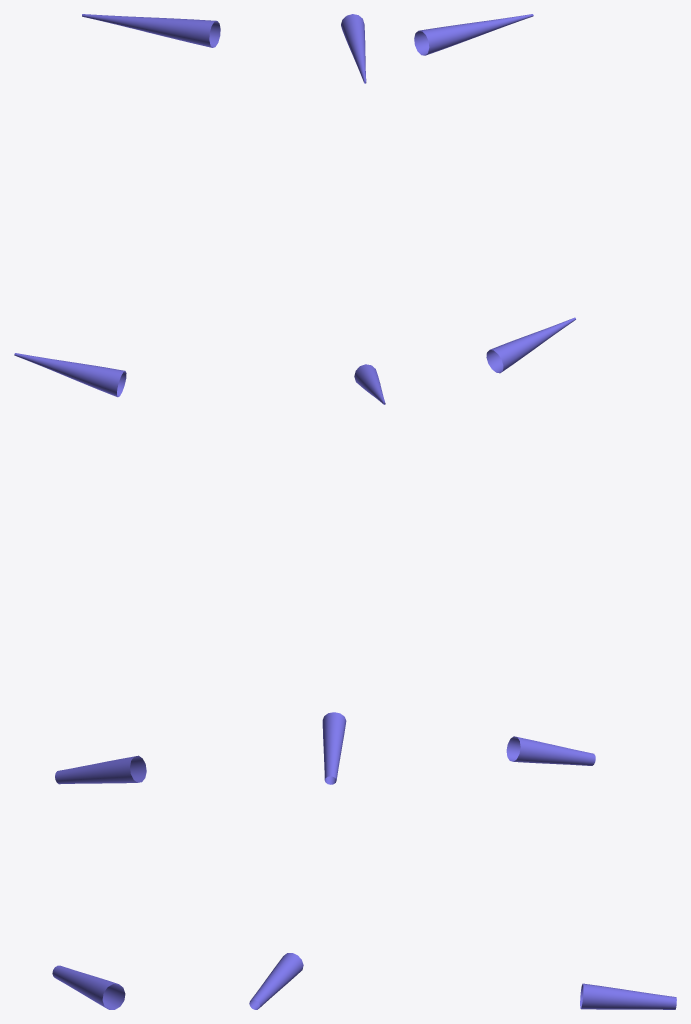
The model's file is Perforating_veins.r_BezierCurve.451.glb.
3 views of the same model, side by side, from view 1: azimuth 30°, elevation 25°; view 2: azimuth 150°, elevation 25°; view 3: azimuth 270°, elevation 25° (orthographic). The views are drawn at different scales.
Visible parts, largest first — view 1: Perforating_veins.r_BezierCurve.451; view 2: Perforating_veins.r_BezierCurve.451; view 3: Perforating_veins.r_BezierCurve.451.
Boxes of the visible parts, x1=… form: Perforating_veins.r_BezierCurve.451: x1=14, y1=14, x2=220, y2=1009; Perforating_veins.r_BezierCurve.451: x1=249, y1=14, x2=385, y2=1009; Perforating_veins.r_BezierCurve.451: x1=414, y1=14, x2=676, y2=1009.
Bounding box in the file's own units: 0.0216 × 0.1679 × 0.0405.
